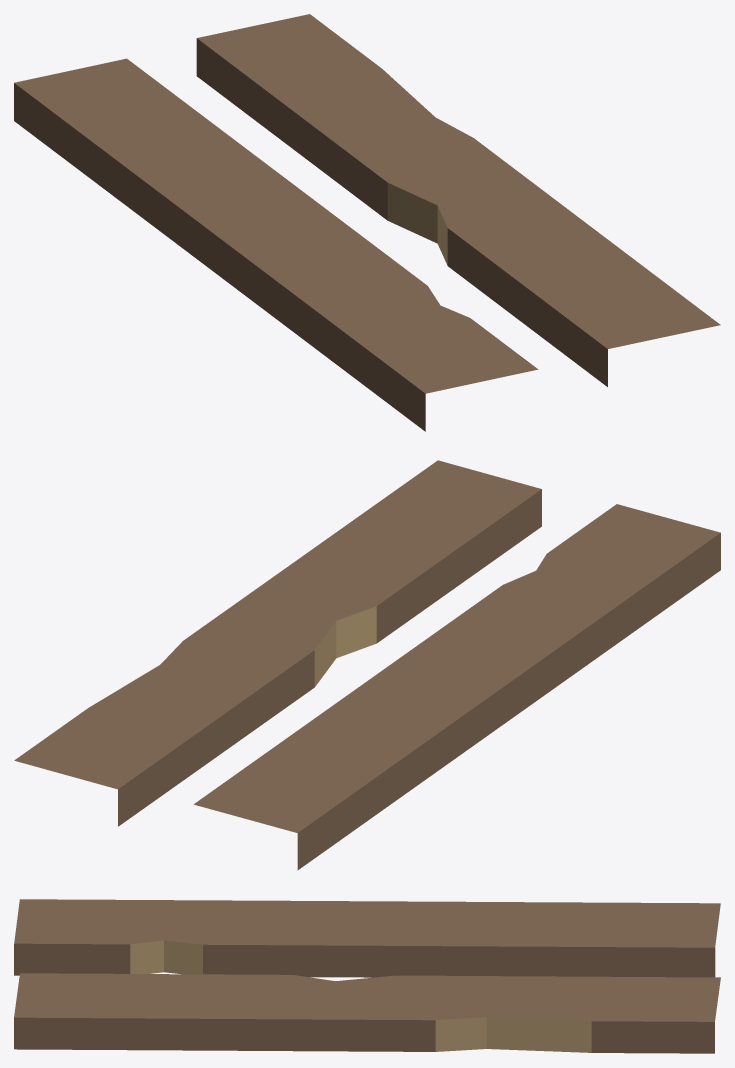
File: Cave_Prop_Support_Ceiling_Boards_2.glb
3 renders of one model, top to bottom at view 1: azimuth 30°, elevation 25°; view 2: azimuth 150°, elevation 25°; view 3: azimuth 270°, elevation 25°, orthographic. The views are drawn at different scales.
Parts seen in each view (by area): view 1: Cave_Prop_Support_Ceiling_Boards_2; view 2: Cave_Prop_Support_Ceiling_Boards_2; view 3: Cave_Prop_Support_Ceiling_Boards_2.
Part boxes in pixels (bbox=[...]): Cave_Prop_Support_Ceiling_Boards_2: bbox=[14, 14, 720, 431]; Cave_Prop_Support_Ceiling_Boards_2: bbox=[14, 460, 720, 870]; Cave_Prop_Support_Ceiling_Boards_2: bbox=[14, 899, 720, 1053].
Bounding box in the file's own units: 0.8277 × 0.1 × 2.02.
